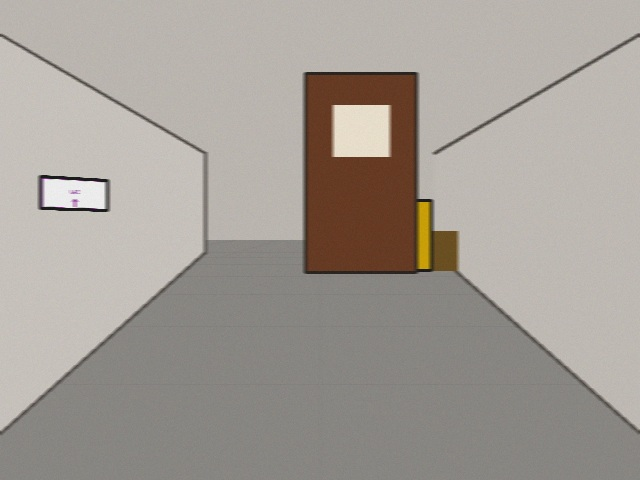directional_sign: (40, 176, 107, 210)
door: (305, 73, 416, 272)
forklift: (309, 130, 431, 270)
pallet: (346, 231, 457, 270)
